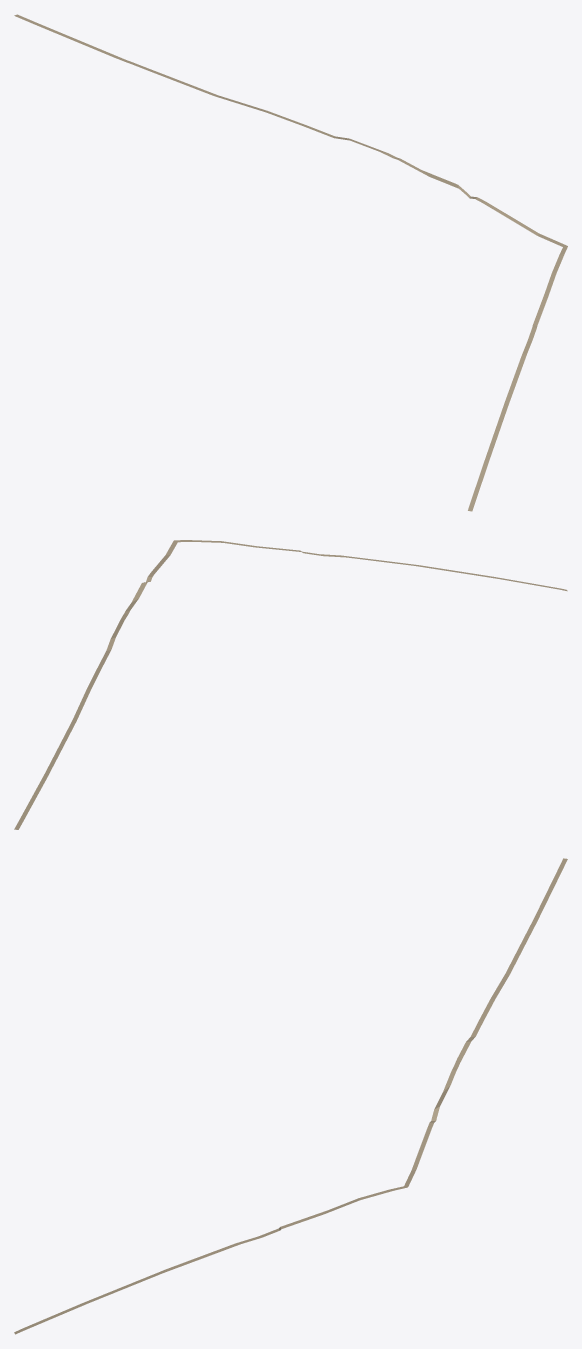
The model's file is farm_7_22_track.glb.
The picture shows the model from 3 angles, top to bottom: view 1: azimuth 30°, elevation 25°; view 2: azimuth 150°, elevation 25°; view 3: azimuth 330°, elevation 25°; orthographic projection.
Visible parts, largest first — view 1: geometry_0; view 2: geometry_0; view 3: geometry_0.
Part boxes in pixels (x1,y1,x2,y2): geometry_0: (14,14,567,511); geometry_0: (14,540,567,829); geometry_0: (14,858,567,1334).
Size of the model in its own units: 197 by 93.56 by 697.
